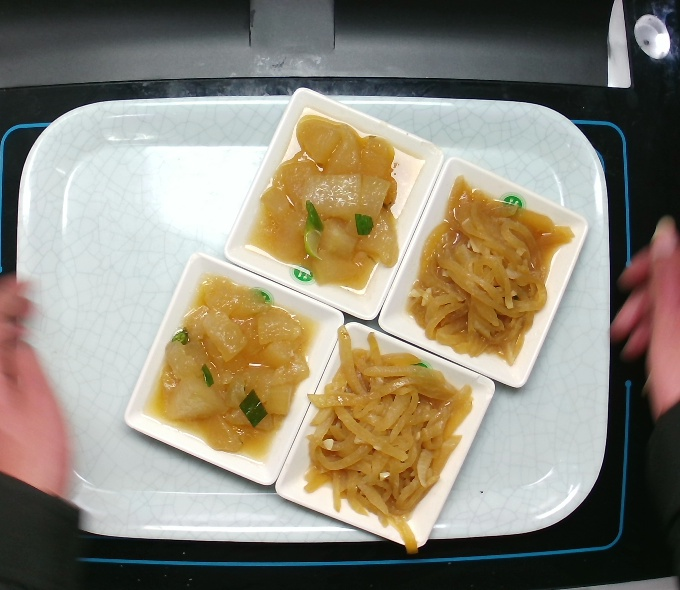wcq-DongGua: (237, 101, 431, 301), (138, 267, 323, 465)
wcq-LuoBoSi: (295, 320, 479, 560), (399, 170, 578, 371)
